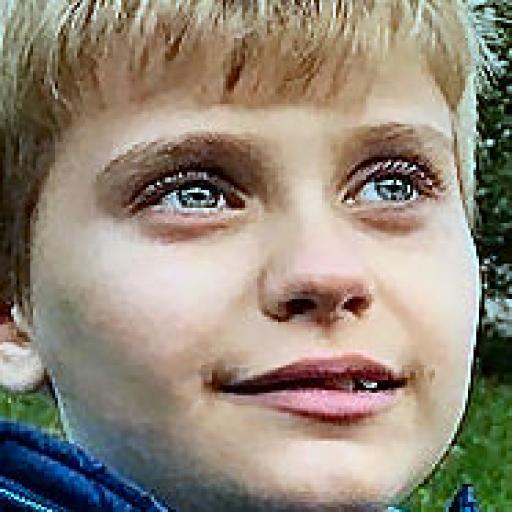Autism: (16, 5, 512, 512)
